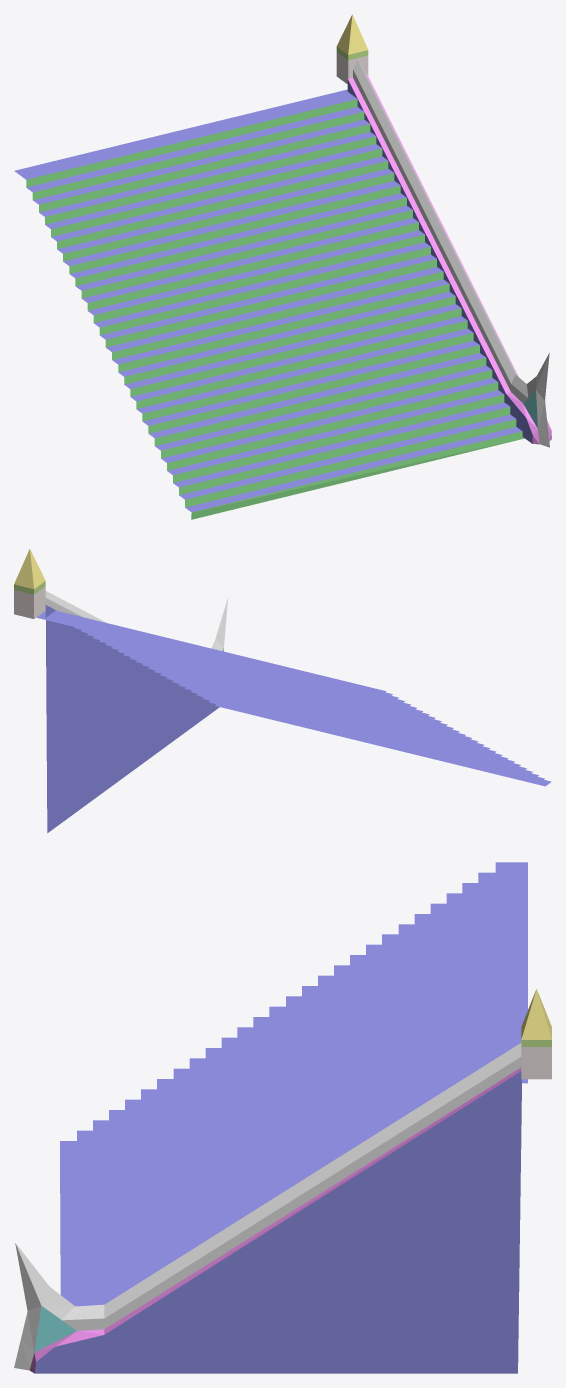
File: O_DE_CH_sidestair.gltf
3 renders of one model, top to bottom at view 1: azimuth 30°, elevation 25°; view 2: azimuth 150°, elevation 25°; view 3: azimuth 270°, elevation 25°, orthographic. The views are drawn at different scales.
Parts seen in each view (by area): view 1: O_DE_CH_sidestair; view 2: O_DE_CH_sidestair; view 3: O_DE_CH_sidestair.
Part boxes in pixels (left/top/right/bottom): O_DE_CH_sidestair: left=14, top=14, right=551, bottom=519; O_DE_CH_sidestair: left=14, top=549, right=551, bottom=833; O_DE_CH_sidestair: left=14, top=862, right=551, bottom=1373.
Bounding box in the file's own units: 3.76 × 2.96 × 3.78.
